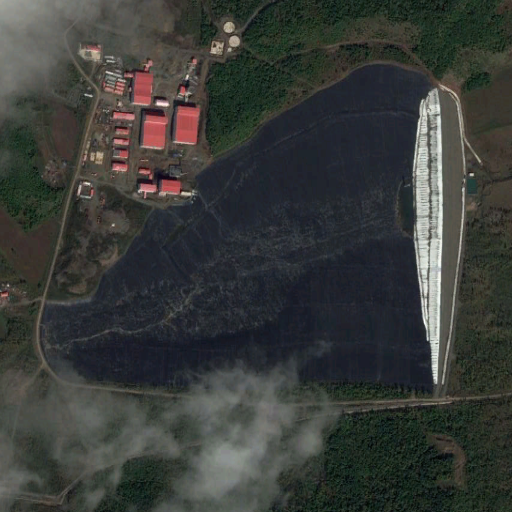lf: (38, 65, 440, 402)
